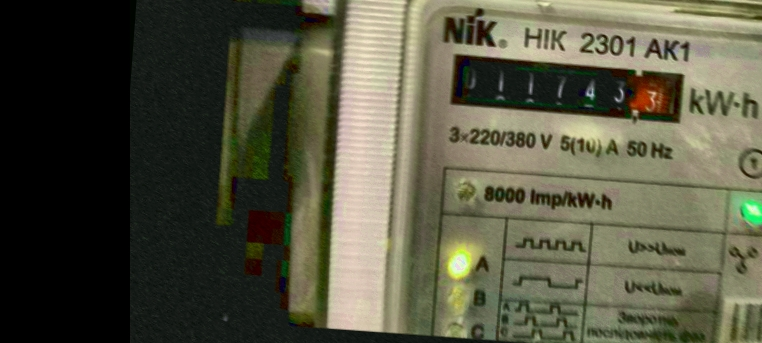0: (462, 63, 478, 92)
1: (523, 68, 537, 97), (494, 66, 506, 93)
3: (612, 77, 628, 105), (642, 88, 658, 114)
4: (582, 75, 598, 103)
7: (552, 70, 569, 99)
screen: (439, 43, 696, 135)
